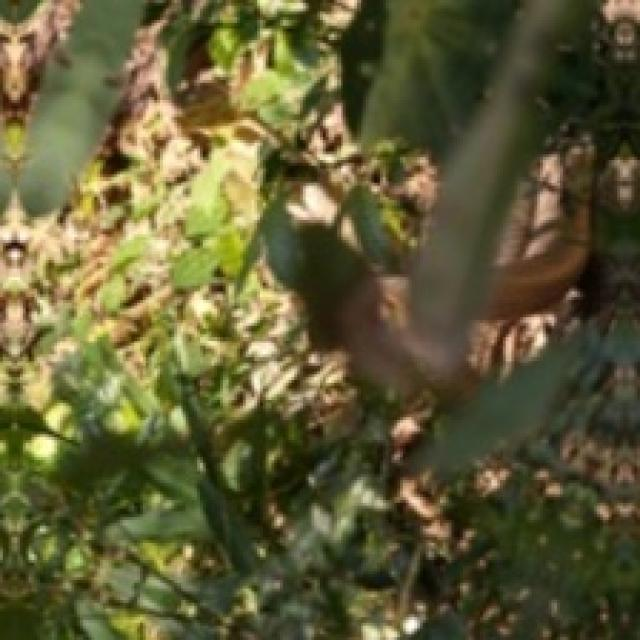king cobra: (482, 141, 595, 318)
